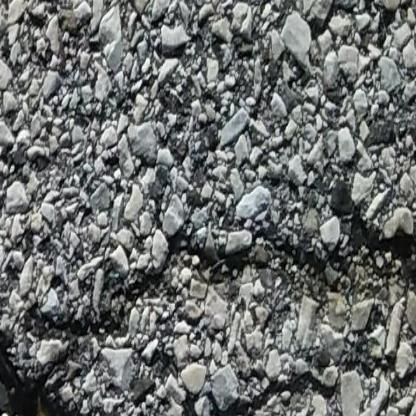Cracks: (0, 198, 416, 416), (178, 353, 416, 416)
